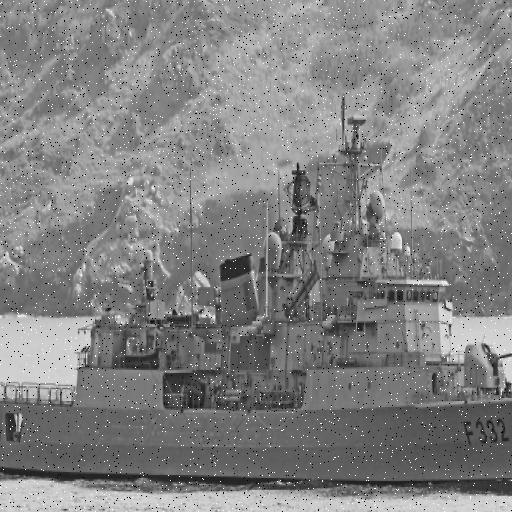Fragata: (1, 85, 512, 488)
